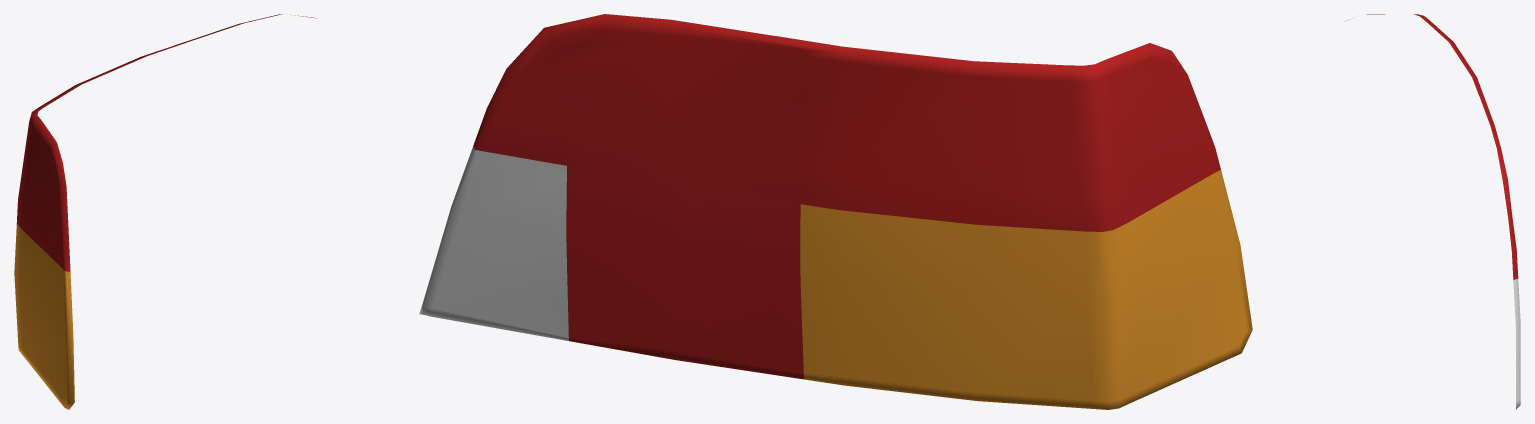
Rendered from taillight_R.glb.
3 renders of one model, left to right at view 1: azimuth 30°, elevation 25°; view 2: azimuth 150°, elevation 25°; view 3: azimuth 270°, elevation 25°, orthographic. The views are drawn at different scales.
Visible parts, largest first — view 1: taillight_R; view 2: taillight_R; view 3: taillight_R.
Boxes of the visible parts, <box> form: taillight_R: <box>14,14,317,409</box>; taillight_R: <box>419,14,1252,409</box>; taillight_R: <box>1344,14,1520,409</box>.
Size of the model in its own units: 0.3321 by 0.1704 by 0.1677.
